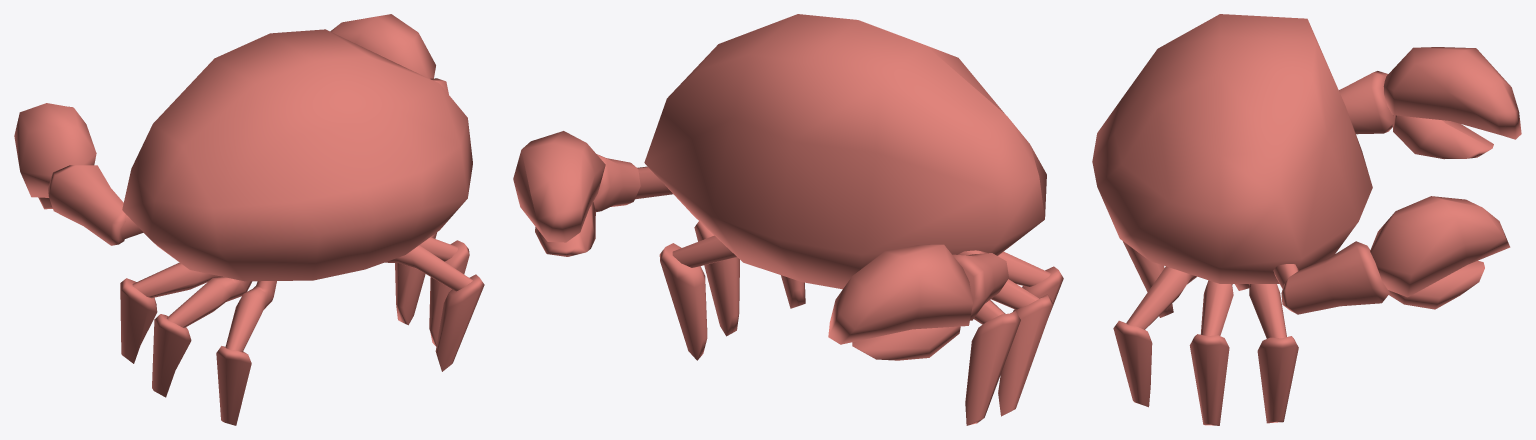
The model's file is crab.fbx.
3 views of the same model, side by side, from view 1: azimuth 30°, elevation 25°; view 2: azimuth 150°, elevation 25°; view 3: azimuth 270°, elevation 25° (orthographic). The views are drawn at different scales.
Parts seen in each view (by area): view 1: crab; view 2: crab; view 3: crab.
Boxes of the visible parts, <box> form: crab: <box>14,14,484,425</box>; crab: <box>513,14,1063,425</box>; crab: <box>1092,14,1521,425</box>.
Bounding box in the file's own units: 19.23 × 14.23 × 16.43.
